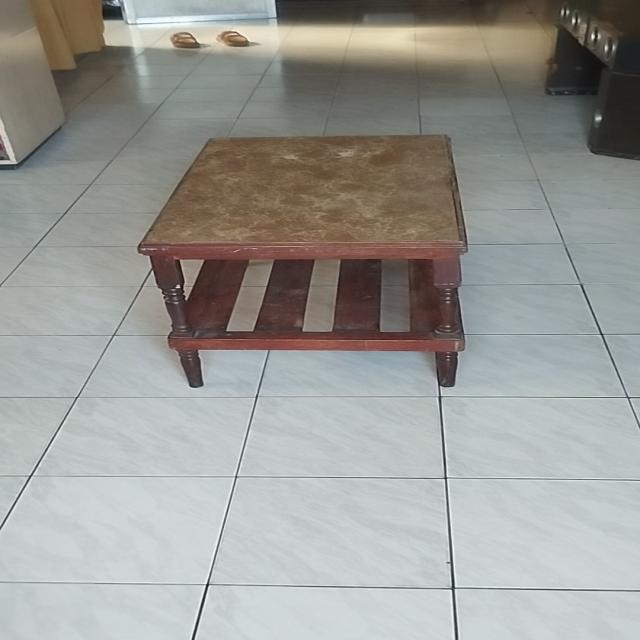table: (139, 129, 471, 388)
